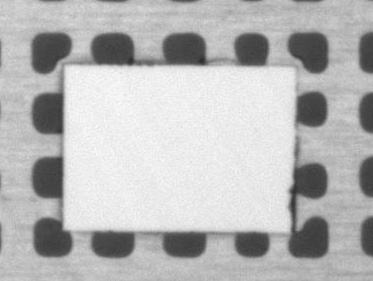DIE_BROKEN: (287, 185, 299, 232)
